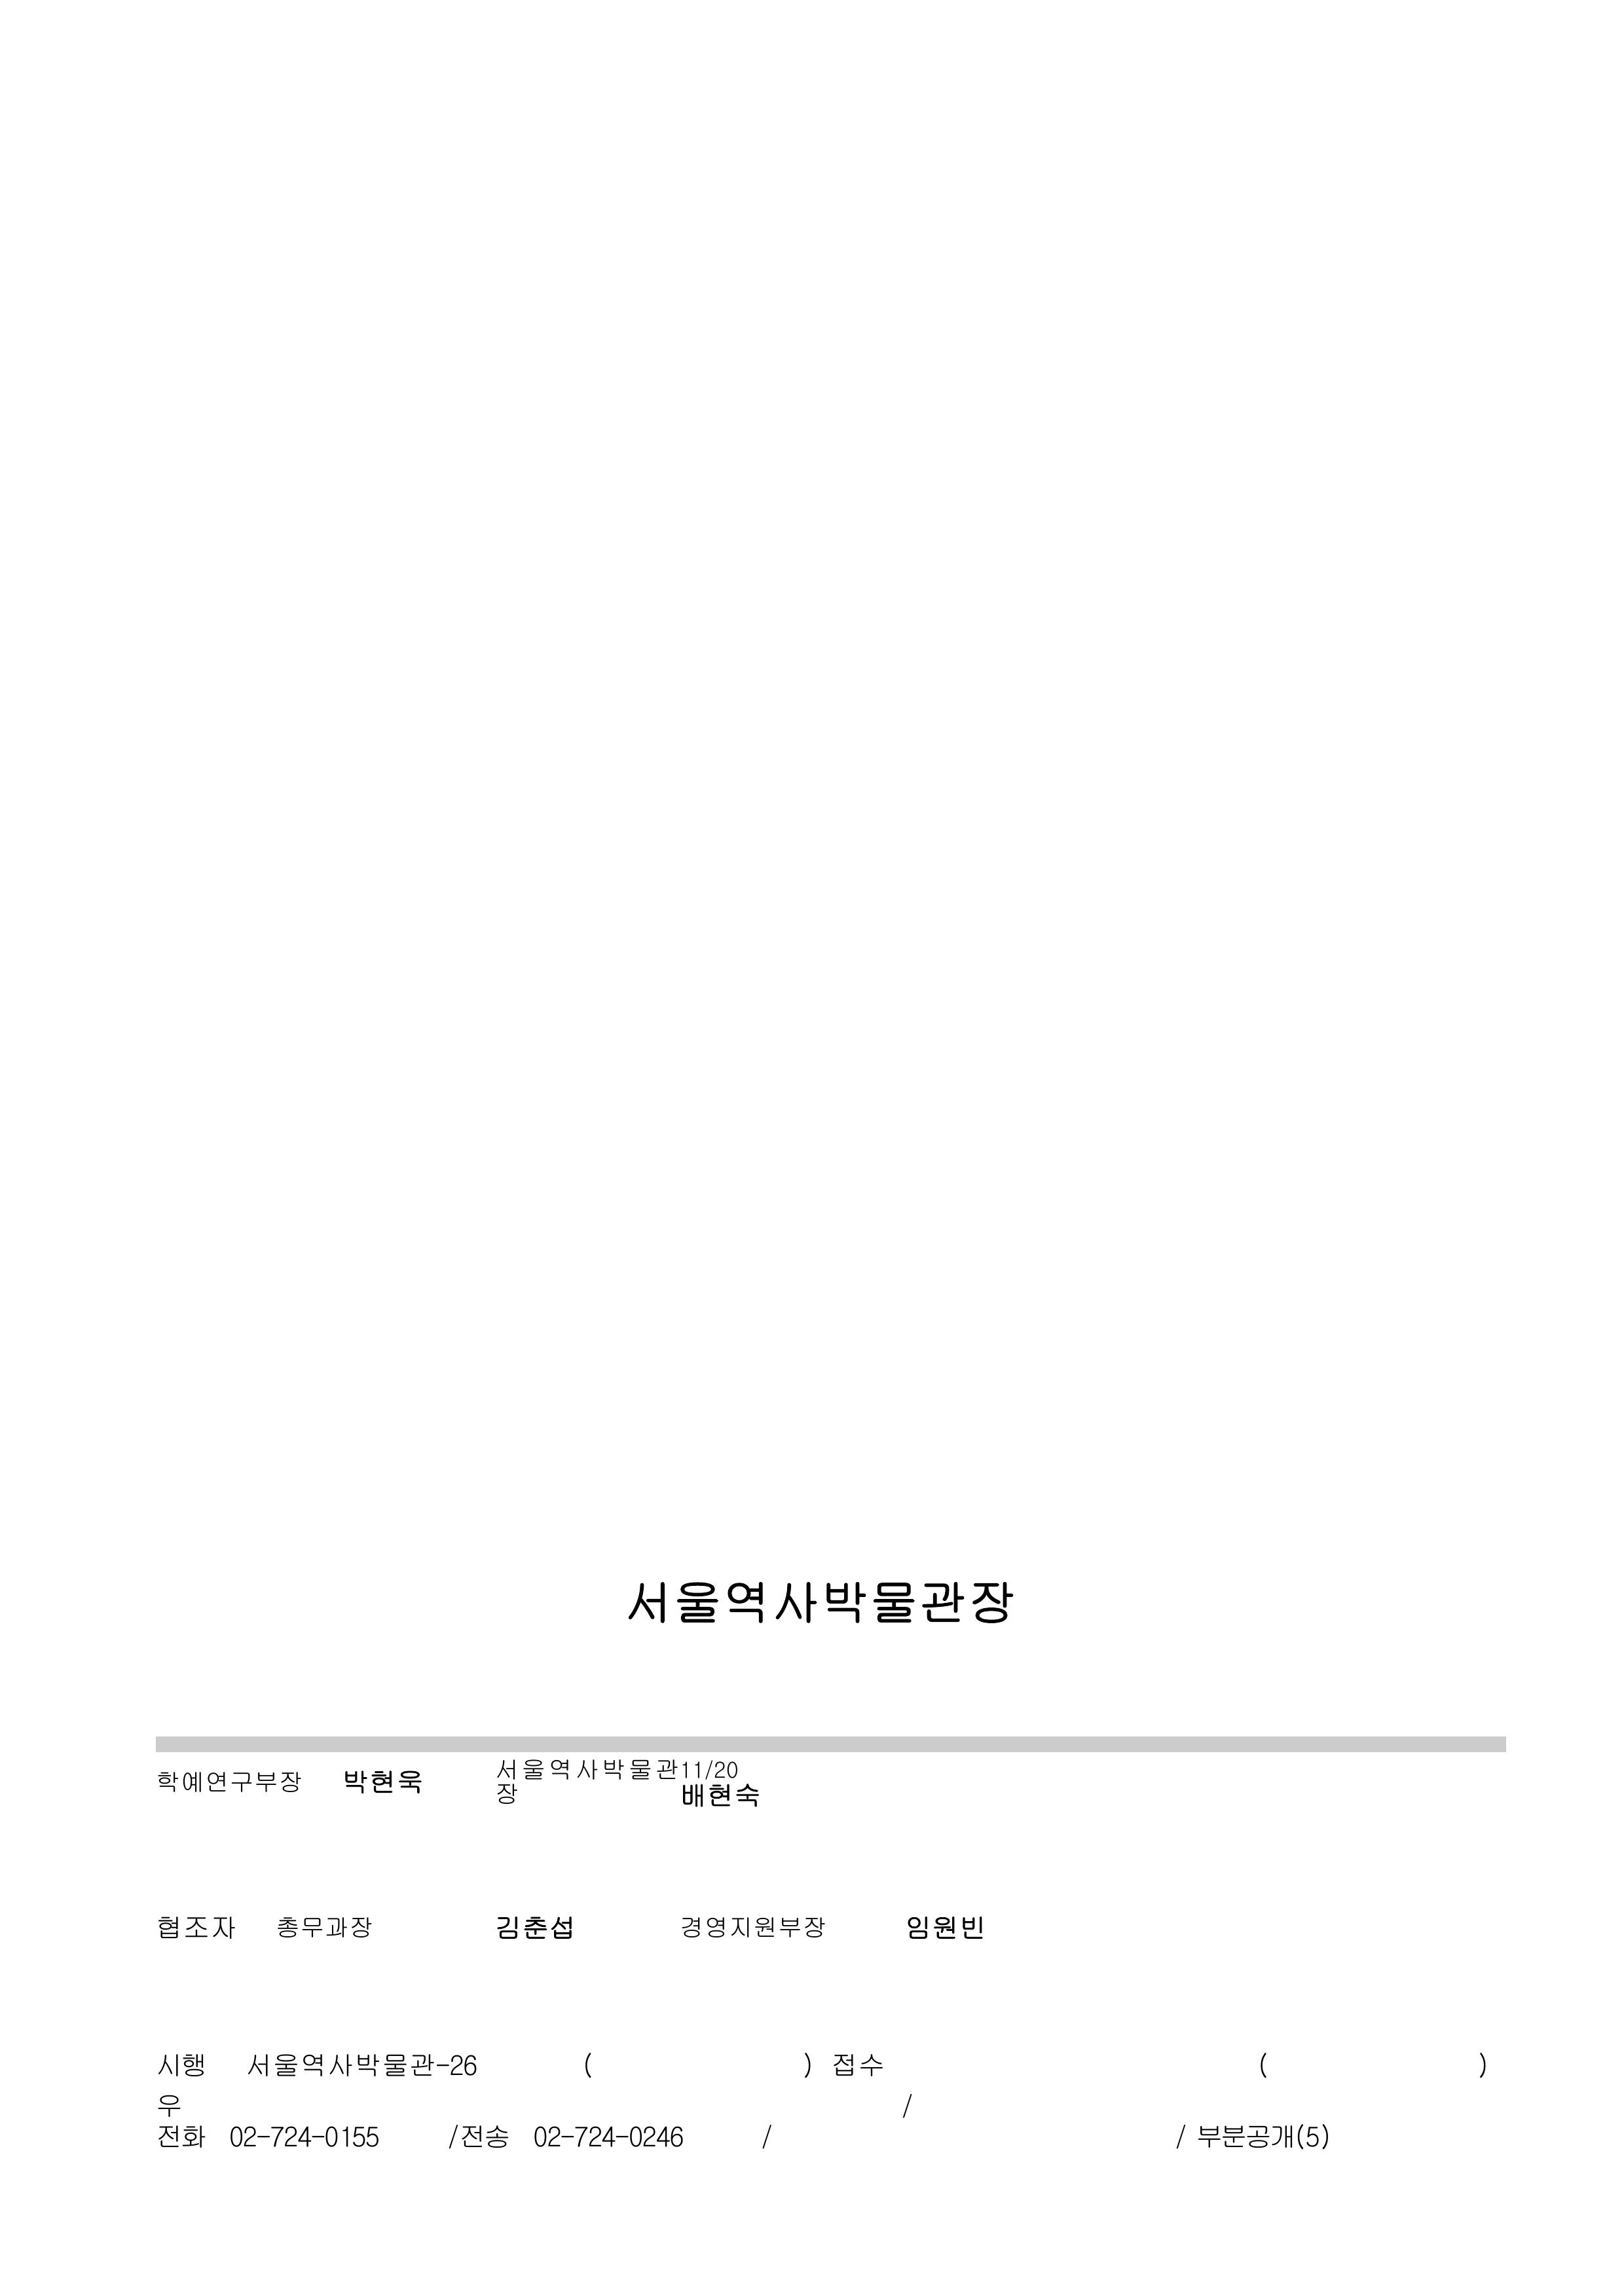t: (627, 1577, 1014, 1631), (244, 2047, 480, 2080), (530, 2119, 688, 2151), (226, 2119, 383, 2151), (678, 1911, 824, 1943), (494, 1757, 652, 1786), (1194, 2119, 1330, 2151), (157, 1771, 304, 1796), (272, 1911, 373, 1943), (341, 1764, 423, 1796), (678, 1778, 760, 1810), (154, 1911, 236, 1943), (904, 1911, 986, 1943), (494, 1911, 574, 1943), (445, 2119, 509, 2151), (656, 1760, 742, 1782), (154, 2051, 208, 2080), (832, 2055, 885, 2080), (796, 2051, 824, 2080), (183, 2126, 208, 2151), (498, 1786, 520, 1807), (157, 2126, 183, 2144)
